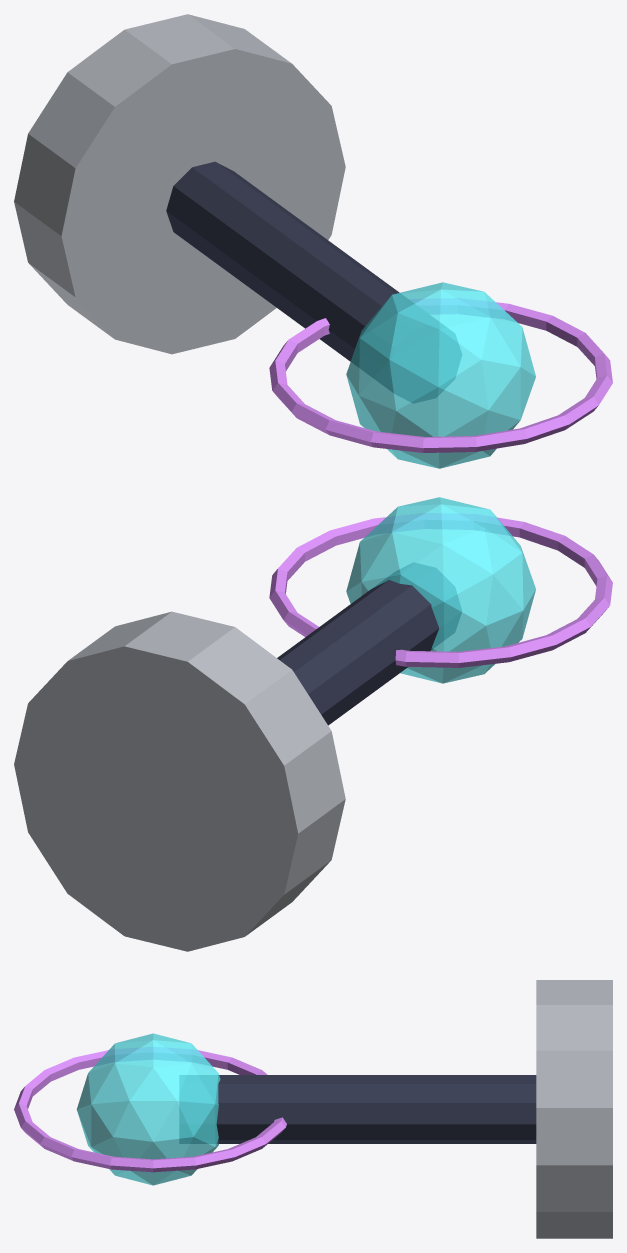
The model's file is 03_world_landmark_light.glb.
3 views of the same model, one above another, from view 1: azimuth 30°, elevation 25°; view 2: azimuth 150°, elevation 25°; view 3: azimuth 270°, elevation 25° (orthographic). The views are drawn at different scales.
Parts seen in each view (by area): view 1: light_base, light_column, light_core, light_halo; view 2: light_base, light_core, light_column, light_halo; view 3: light_column, light_base, light_core, light_halo.
Boxes of the visible parts, bbox=[...] form: light_base: bbox=[14, 14, 345, 354]; light_column: bbox=[166, 161, 461, 402]; light_core: bbox=[346, 282, 535, 468]; light_halo: bbox=[269, 298, 612, 452]; light_base: bbox=[14, 611, 345, 951]; light_core: bbox=[346, 497, 535, 683]; light_column: bbox=[277, 563, 461, 725]; light_halo: bbox=[269, 513, 612, 667]; light_column: bbox=[180, 1075, 536, 1143]; light_base: bbox=[536, 980, 612, 1238]; light_core: bbox=[76, 1033, 220, 1185]; light_halo: bbox=[14, 1047, 286, 1172].
Size of the model in its own units: 0.8 by 0.7409 by 1.72.
